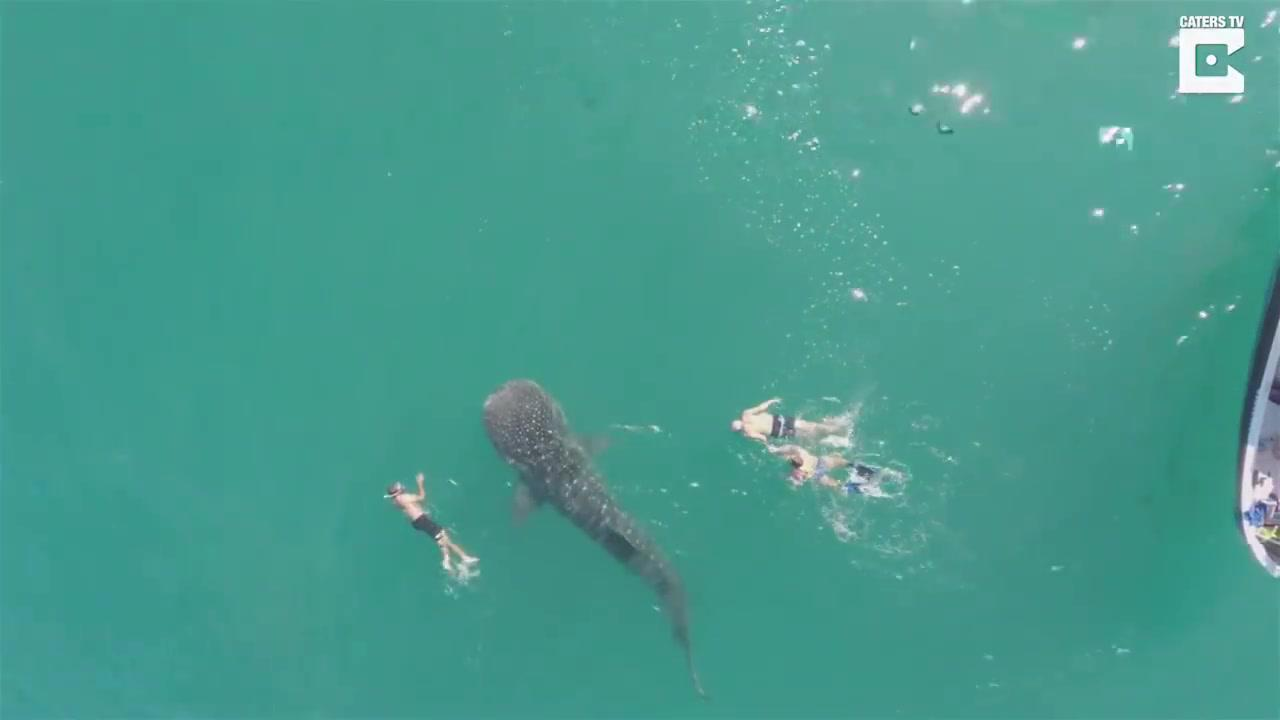swimmer: (374, 475, 454, 541), (723, 392, 805, 445), (779, 447, 855, 486)
